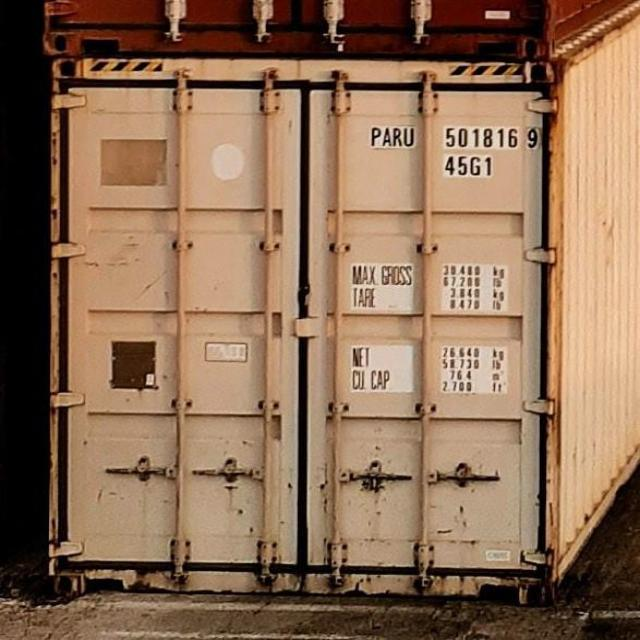ISO: (444, 154, 497, 178)
container_number: (373, 126, 536, 150)
